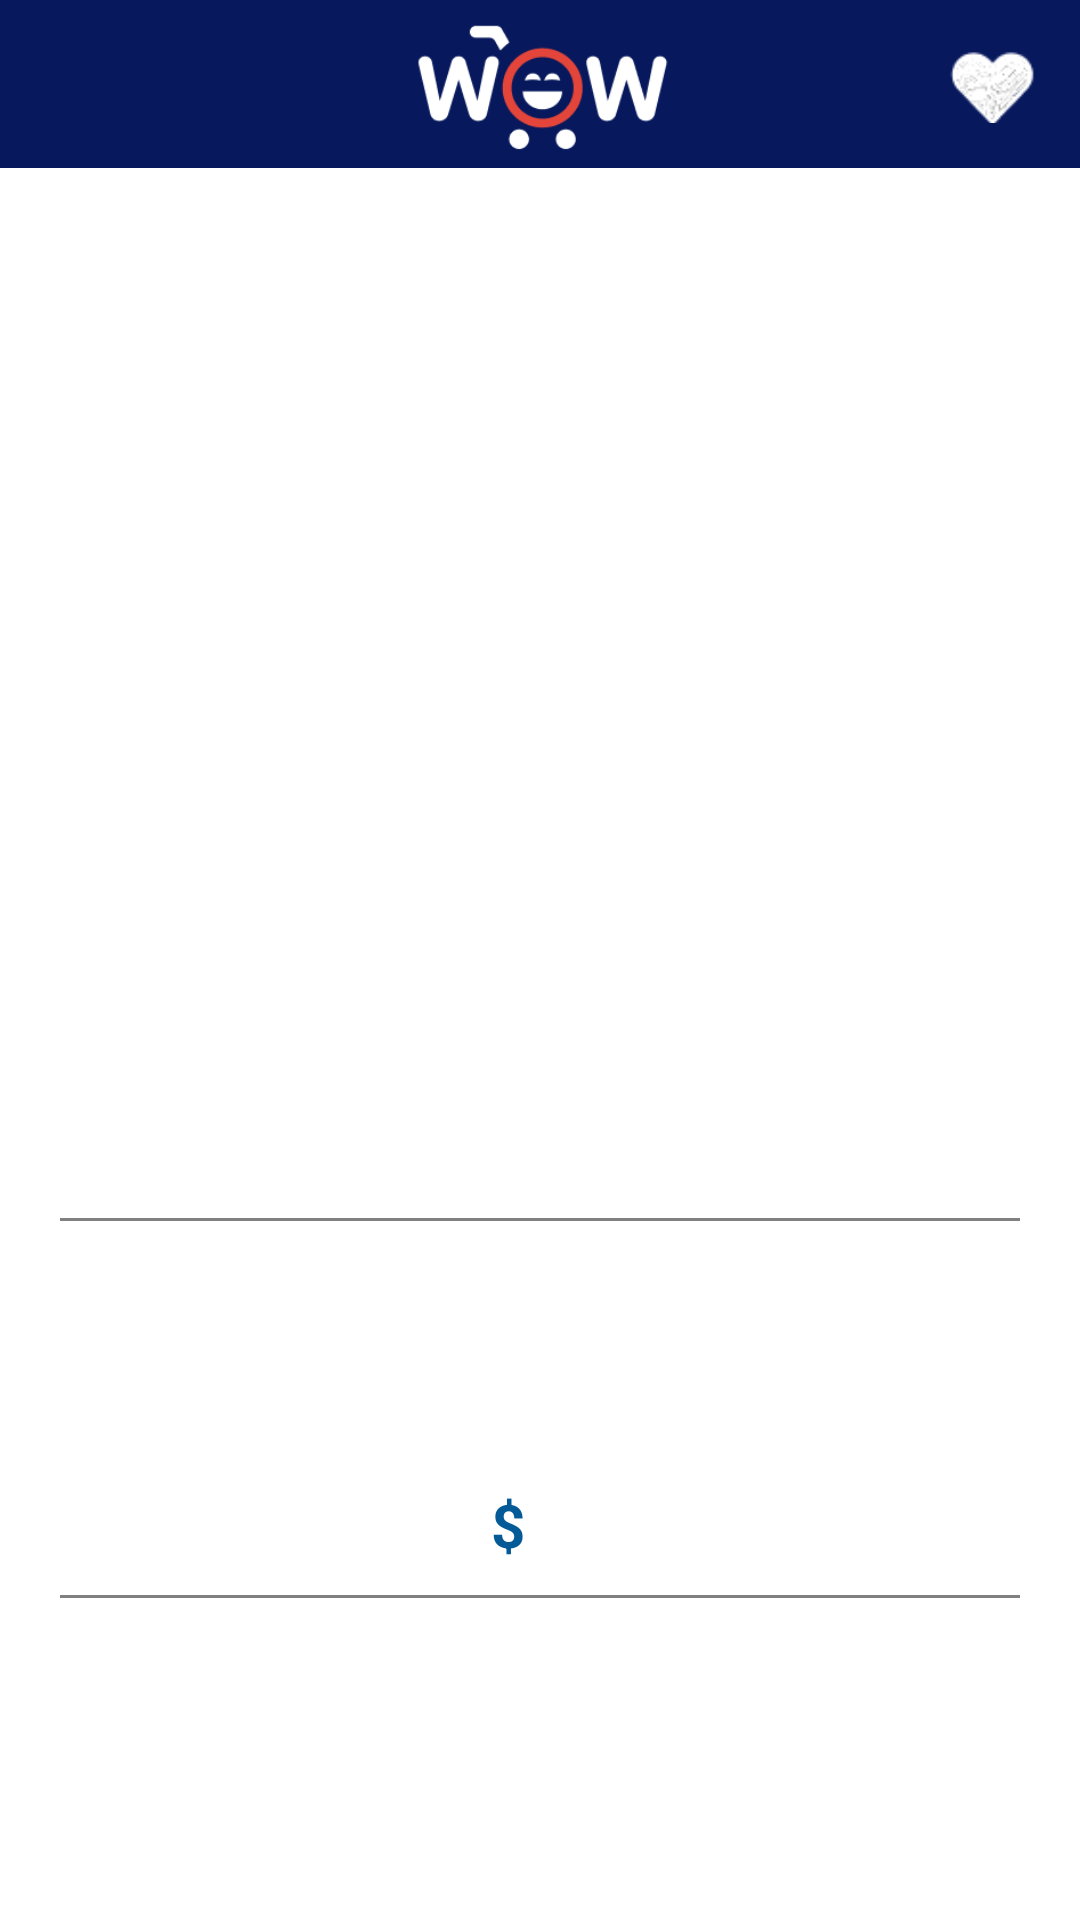

Where to tap for icons on this 1080w x 1920h app screen, as (x=x, y=y):
favourites checked: (x=992, y=87)
